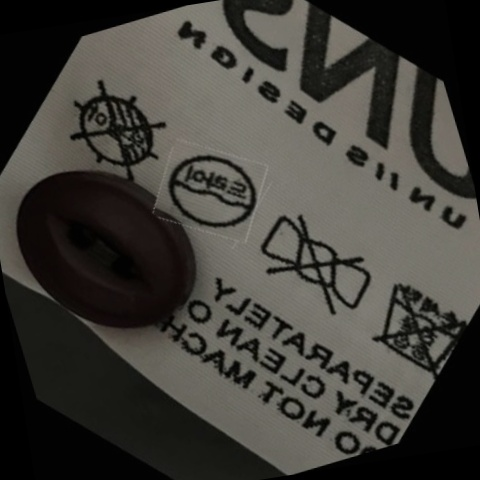DN_dry: (59, 71, 176, 190)
DN_wring: (250, 201, 382, 333)
dry_clean: (158, 138, 264, 247)
hand_wash: (358, 264, 471, 384)
